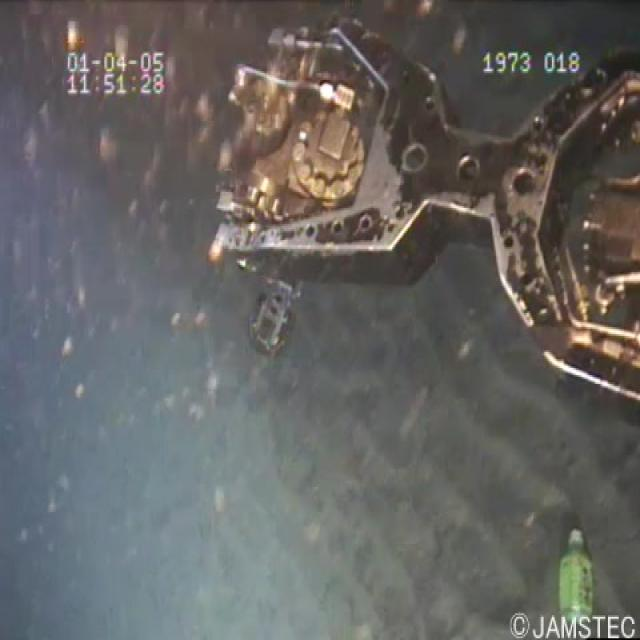plastic: (540, 517, 607, 635)
